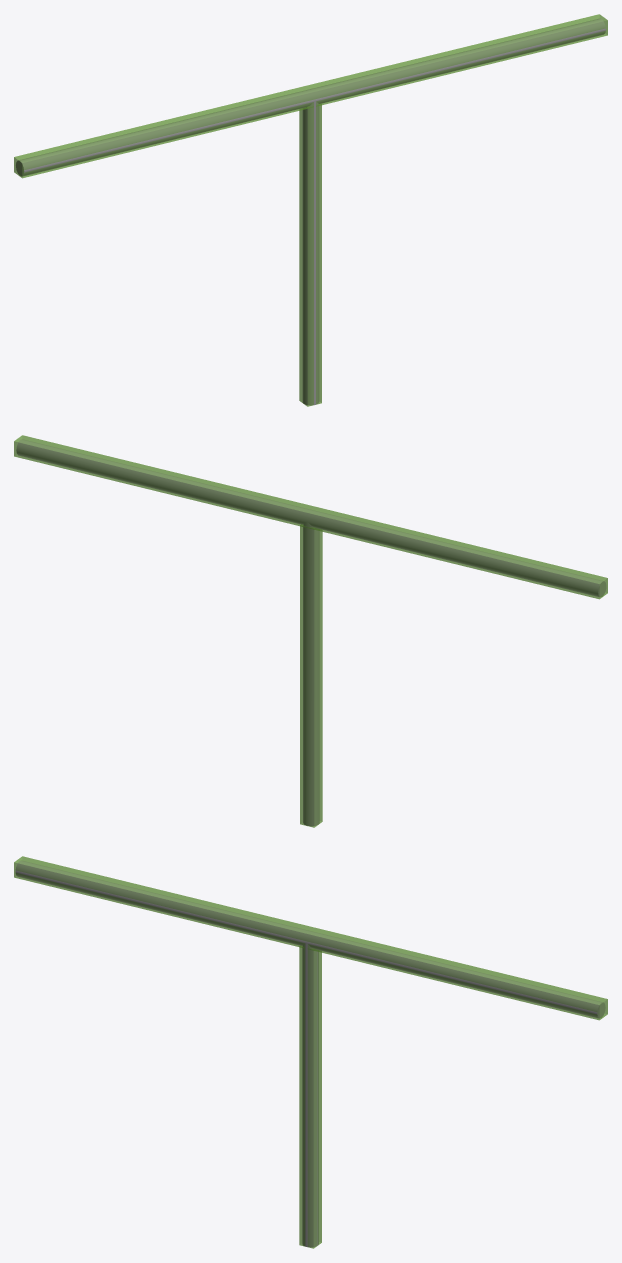
Rendered from M_md_StallBeam1_1m_02.fbx.
3 renders of one model, top to bottom at view 1: azimuth 30°, elevation 25°; view 2: azimuth 150°, elevation 25°; view 3: azimuth 330°, elevation 25°, orthographic.
Visible parts, largest first — view 1: M_md_StallBeam1_1m_02_LOD0, M_md_StallBeam1_1m_02_col_02, M_md_StallBeam1_1m_02_col_01; view 2: M_md_StallBeam1_1m_02_LOD0, M_md_StallBeam1_1m_02_col_02, M_md_StallBeam1_1m_02_col_01; view 3: M_md_StallBeam1_1m_02_LOD0, M_md_StallBeam1_1m_02_col_02, M_md_StallBeam1_1m_02_col_01.
Part boxes in pixels (bbox=[...]): M_md_StallBeam1_1m_02_LOD0: bbox=[16, 18, 605, 405]; M_md_StallBeam1_1m_02_col_02: bbox=[14, 14, 607, 178]; M_md_StallBeam1_1m_02_col_01: bbox=[299, 103, 321, 406]; M_md_StallBeam1_1m_02_LOD0: bbox=[16, 439, 606, 826]; M_md_StallBeam1_1m_02_col_02: bbox=[14, 435, 607, 599]; M_md_StallBeam1_1m_02_col_01: bbox=[300, 524, 322, 827]; M_md_StallBeam1_1m_02_LOD0: bbox=[15, 860, 605, 1247]; M_md_StallBeam1_1m_02_col_02: bbox=[14, 856, 607, 1020]; M_md_StallBeam1_1m_02_col_01: bbox=[299, 945, 321, 1248].
Size of what is drawn, in the model's own units: 201 by 103 by 5.1.
